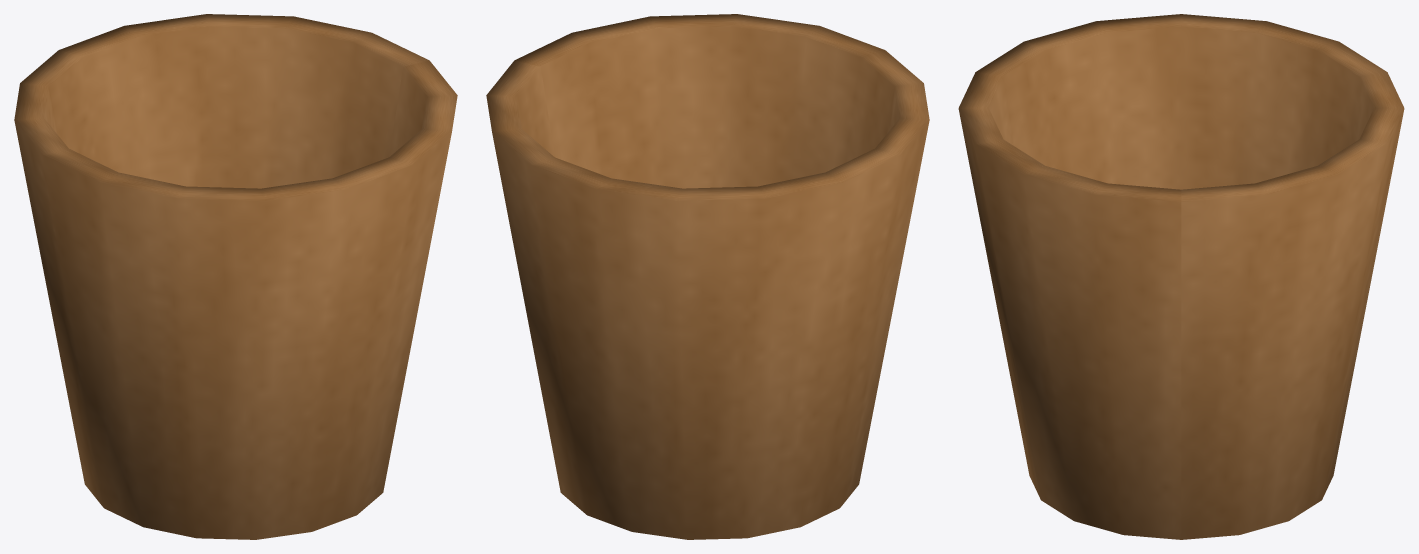
The model's file is bucket.glb.
3 views of the same model, side by side, from view 1: azimuth 30°, elevation 25°; view 2: azimuth 150°, elevation 25°; view 3: azimuth 270°, elevation 25° (orthographic).
Visible parts, largest first — view 1: bucket; view 2: bucket; view 3: bucket.
Part boxes in pixels (x1,y1,x2,y2): bucket: (14, 14, 457, 539); bucket: (486, 14, 929, 539); bucket: (958, 14, 1404, 539).
Size of the model in its own units: 0.44 by 0.4 by 0.44.
Materials: 1 (1 with a texture image).
